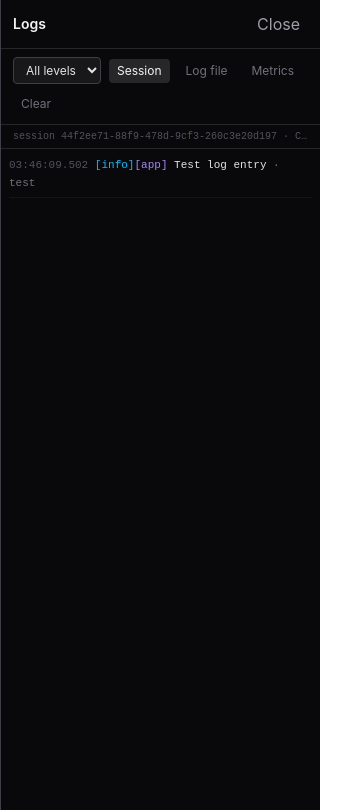
Test: LogViewerPanel › switches to file tail tab
Click the button "Log file" at (207, 70), box [178,58,236,82]
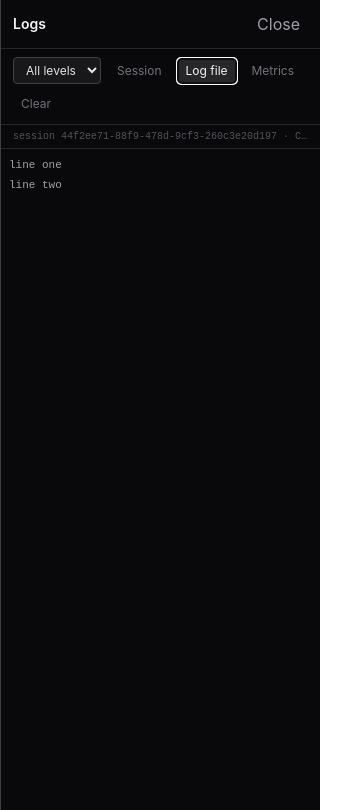
Result: the text "line one" is shown at [9,159,62,171]
